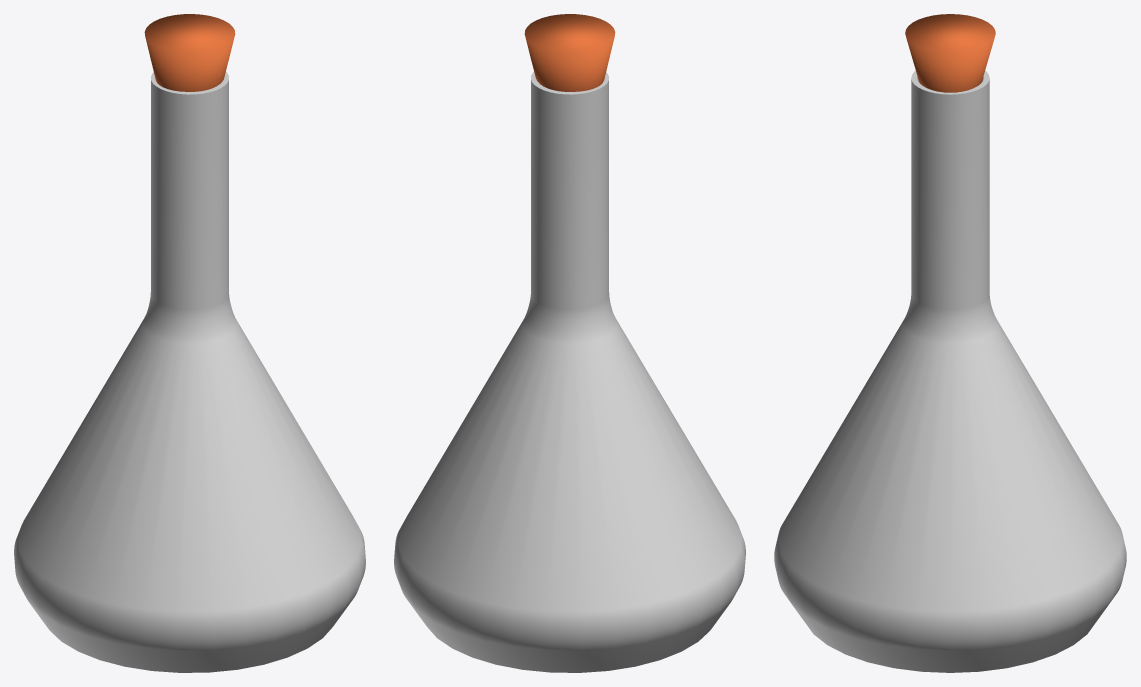
The model's file is potionV2.fbx.
3 renders of one model, left to right at view 1: azimuth 30°, elevation 25°; view 2: azimuth 150°, elevation 25°; view 3: azimuth 270°, elevation 25°, orthographic.
Parts seen in each view (by area): view 1: Fiole, Bouchon; view 2: Fiole, Bouchon; view 3: Fiole, Bouchon.
Boxes of the visible parts, x1,y1,x2,y2 form: Fiole: (14, 72, 365, 672); Bouchon: (144, 14, 235, 91); Fiole: (394, 72, 745, 672); Bouchon: (524, 14, 615, 91); Fiole: (774, 70, 1126, 672); Bouchon: (905, 14, 995, 92).
Bounding box in the file's own units: 238 × 430 × 238.
